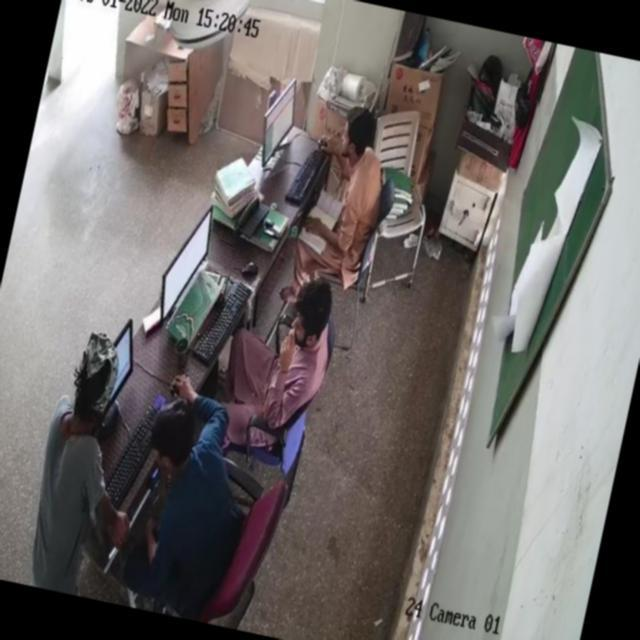person: (21, 327, 130, 573), (126, 382, 256, 576), (227, 256, 338, 438), (299, 101, 386, 268)
